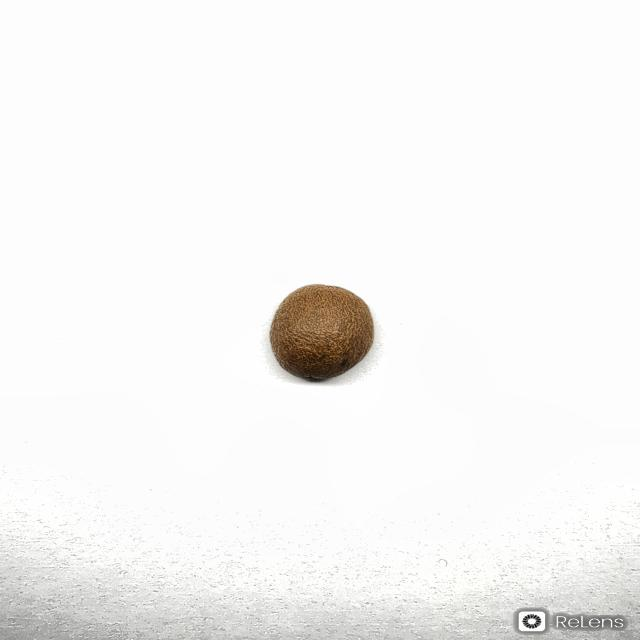Good bean: (268, 283, 375, 380)
